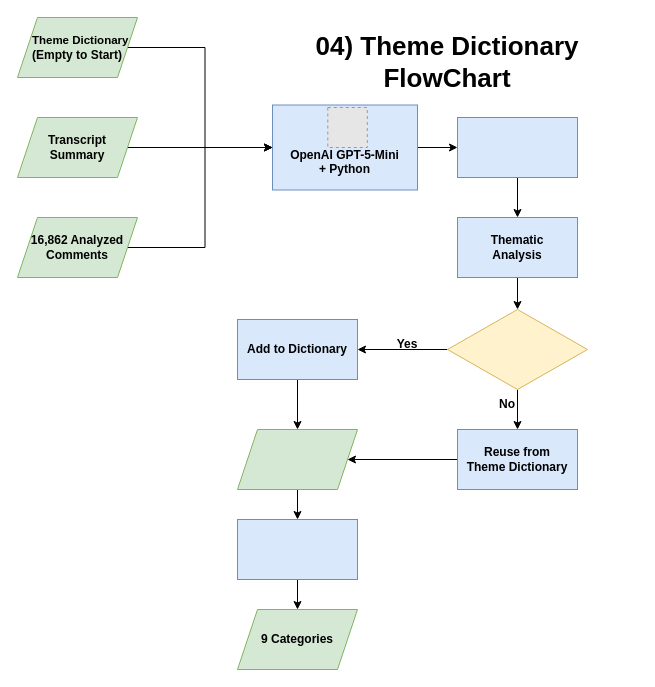
The diagram is 655 pixels wide and 687 high, and some of its shapes have lost their labels. Grey dashed boxes stand in for pictures. The centre of each missing label's shape, as x and y in pixels:
"76 Themes" goes at (297,459).
"Consolidate Catergories" goes at (297,549).
"For loop ( n ≤ 20 Comments per loop)" goes at (517,147).
"New Theme" goes at (517,349).
